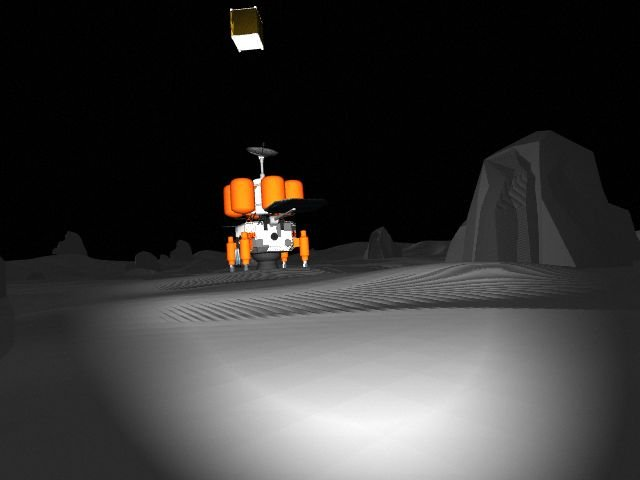cubesat: (222, 2, 283, 60)
